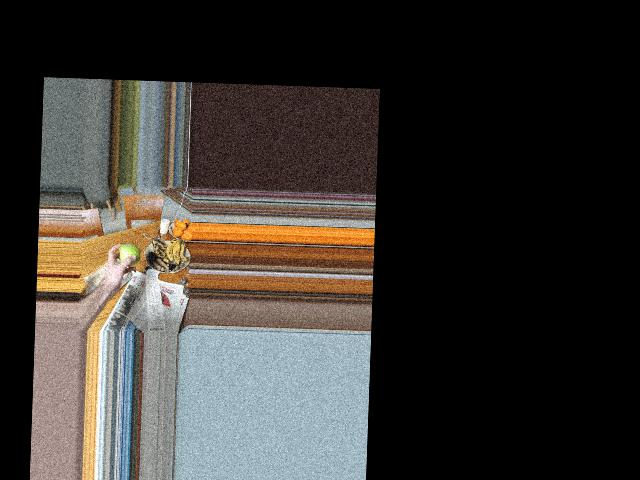apple: (119, 243, 140, 268)
